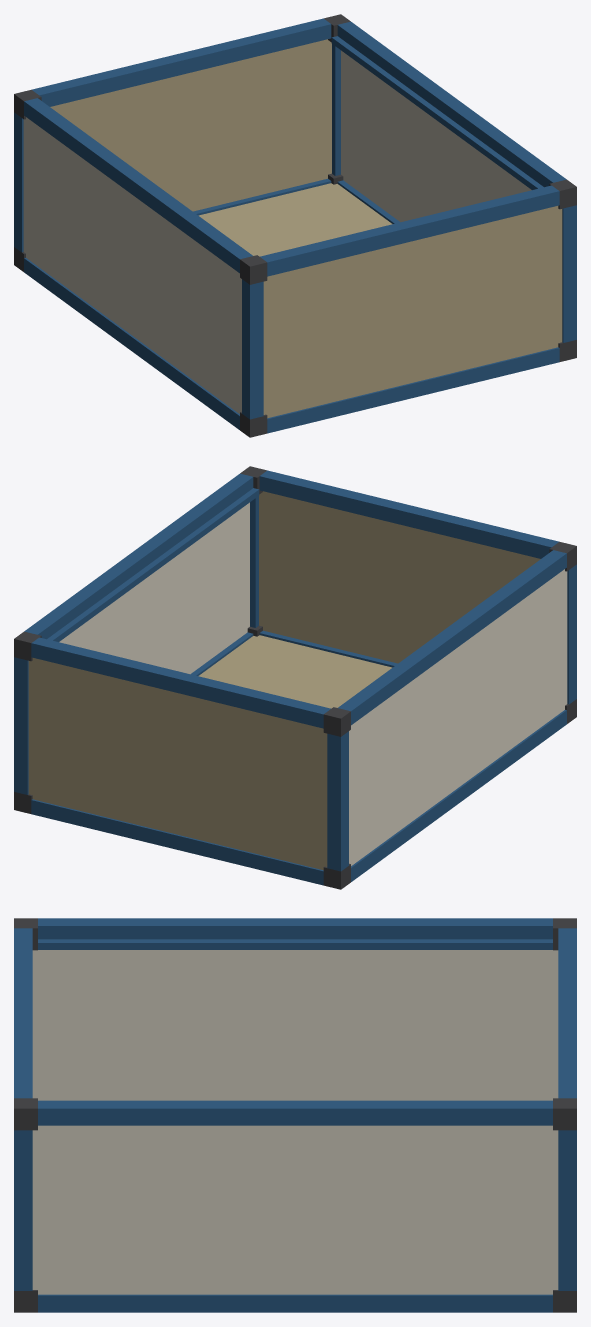
Rendered from drone4_frame.obj.
3 renders of one model, top to bottom at view 1: azimuth 30°, elevation 25°; view 2: azimuth 150°, elevation 25°; view 3: azimuth 270°, elevation 25°, orthographic. The views are drawn at different scales.
Parts seen in each view (by area): view 1: drone4_frame; view 2: drone4_frame; view 3: drone4_frame.
Boxes of the visible parts, x1,y1,x2,y2 form: drone4_frame: [14, 14, 576, 437]; drone4_frame: [14, 466, 576, 889]; drone4_frame: [14, 918, 576, 1312].
Bounding box in the file's own units: 3.37 × 1.69 × 4.22.
